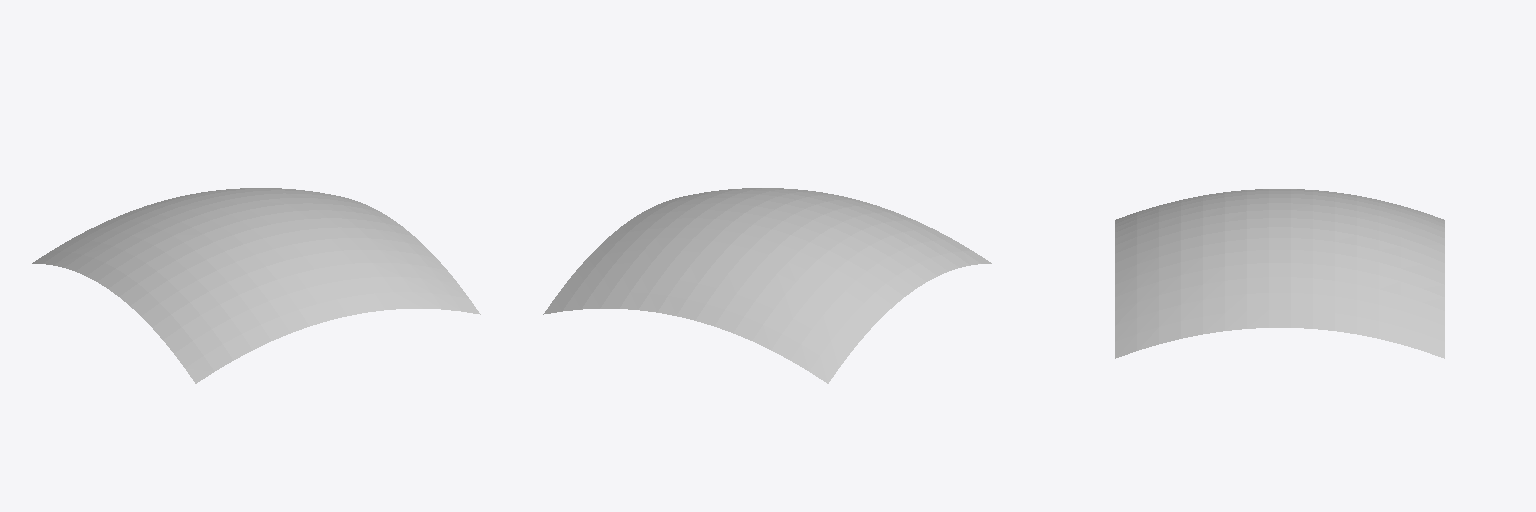
Rendered from superficie.obj.
The picture shows the model from 3 angles: view 1: azimuth 30°, elevation 25°; view 2: azimuth 150°, elevation 25°; view 3: azimuth 270°, elevation 25°; orthographic projection.
Parts seen in each view (by area): view 1: Superfície_-_Bandagem; view 2: Superfície_-_Bandagem; view 3: Superfície_-_Bandagem.
Part boxes in pixels (bbox=[...]): Superfície_-_Bandagem: bbox=[32, 188, 480, 383]; Superfície_-_Bandagem: bbox=[543, 188, 991, 383]; Superfície_-_Bandagem: bbox=[1115, 189, 1444, 358].
Size of the model in its own units: 1 by 0.2229 by 1.